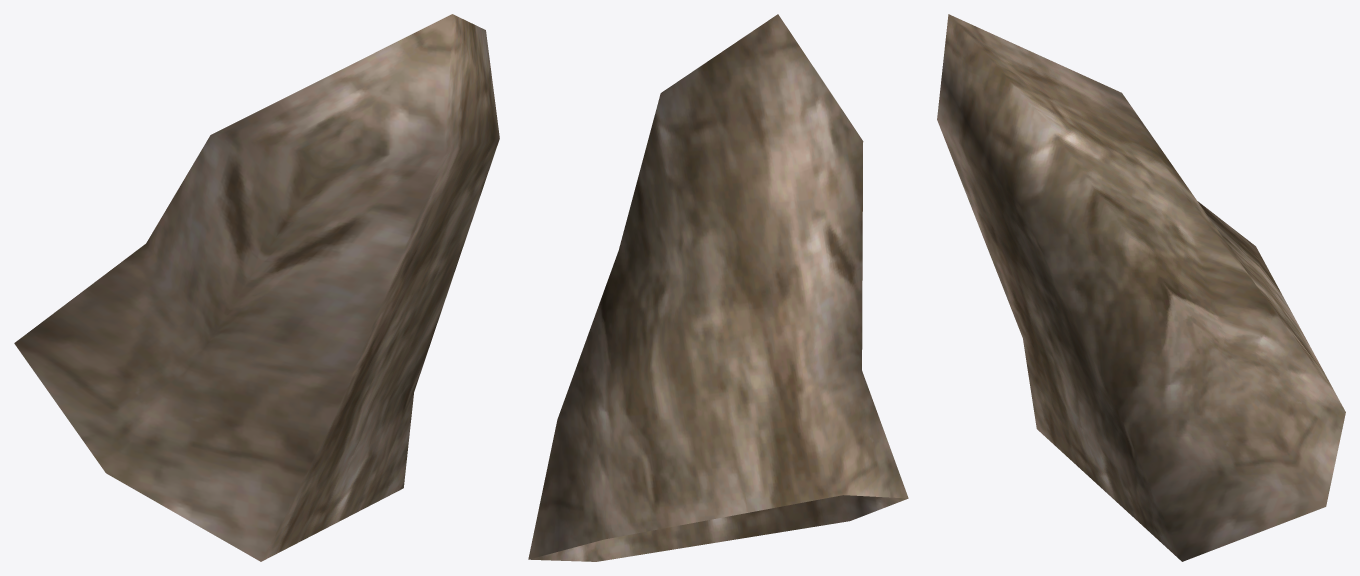
File: OVERHILL_A_01_ROCK31.fbx
3 renders of one model, left to right at view 1: azimuth 30°, elevation 25°; view 2: azimuth 150°, elevation 25°; view 3: azimuth 270°, elevation 25°, orthographic. The views are drawn at different scales.
Visible parts, largest first — view 1: OVERHILL_A_01_ROCK31; view 2: OVERHILL_A_01_ROCK31; view 3: OVERHILL_A_01_ROCK31.
Boxes of the visible parts, <box> form: OVERHILL_A_01_ROCK31: <box>14,14,499,561</box>; OVERHILL_A_01_ROCK31: <box>528,14,908,561</box>; OVERHILL_A_01_ROCK31: <box>937,14,1345,561</box>.
Bounding box in the file's own units: 37040 × 58992 × 42756.
Materials: 1 (1 with a texture image).
